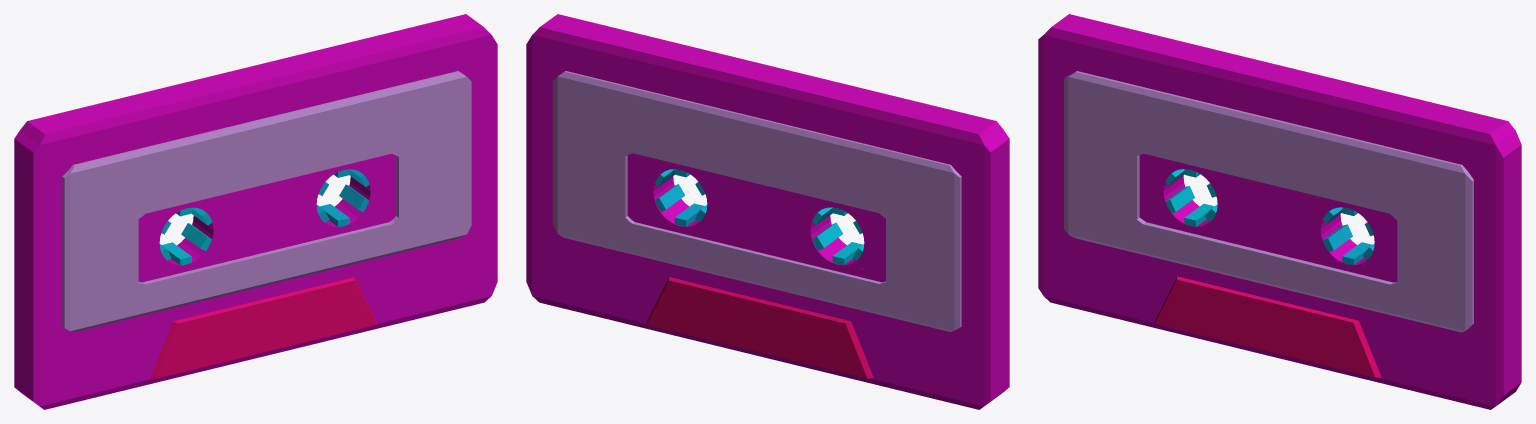
File: casete.fbx
The picture shows the model from 3 angles, left to right: view 1: azimuth 30°, elevation 25°; view 2: azimuth 150°, elevation 25°; view 3: azimuth 330°, elevation 25°; orthographic projection.
Visible parts, largest first — view 1: Cube, Cube.005, Cube.002, Cube.004, Cube.003; view 2: Cube, Cube.005, Cube.001, Cube.004, Cube.003; view 3: Cube, Cube.005, Cube.002, Cube.003, Cube.004.
Boxes of the visible parts, <box> form: Cube: <box>14,14,497,409</box>; Cube.005: <box>62,71,471,332</box>; Cube.002: <box>150,277,377,378</box>; Cube.004: <box>316,169,369,226</box>; Cube.003: <box>159,207,212,265</box>; Cube: <box>526,14,1009,409</box>; Cube.005: <box>552,71,961,331</box>; Cube.001: <box>646,277,873,378</box>; Cube.004: <box>655,169,707,226</box>; Cube.003: <box>812,207,863,264</box>; Cube: <box>1038,14,1521,409</box>; Cube.005: <box>1064,71,1473,332</box>; Cube.002: <box>1154,276,1381,377</box>; Cube.003: <box>1165,169,1217,226</box>; Cube.004: <box>1322,207,1374,265</box>.
Size of the model in its own units: 206 by 116 by 19.68.
